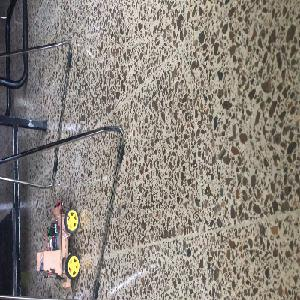Robot: (38, 204, 79, 288)
